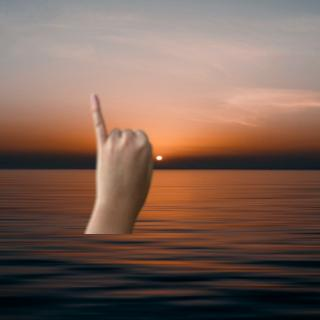Fine: (74, 83, 167, 232)
